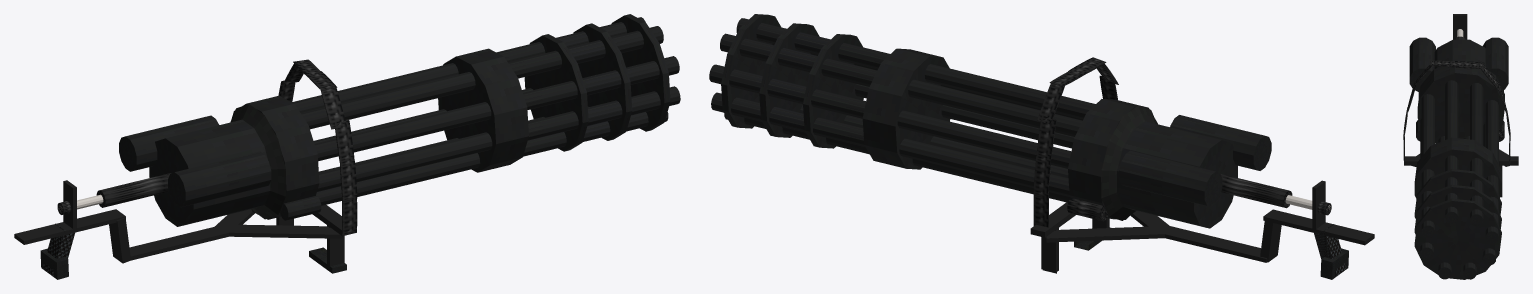
The model's file is Minigun.fbx.
3 renders of one model, left to right at view 1: azimuth 30°, elevation 25°; view 2: azimuth 150°, elevation 25°; view 3: azimuth 270°, elevation 25°, orthographic. The views are drawn at different scales.
Visible parts, largest first — view 1: cylinder_38, cylinder_5, cylinder_44, cylinder_45, cylinder_37, cylinder_48, cylinder_6, cylinder_36, cylinder_46, cylinder_41, cylinder_40, cylinder_39 (+20 smaller); view 2: cylinder_5, cylinder_38, cylinder_43, cylinder_46, cylinder_42, cylinder_37, cylinder_48, cylinder_7, cylinder_41, cylinder_40, cylinder_39, cylinder_6 (+19 smaller); view 3: cylinder_39, cylinder_48, cylinder_38, cylinder_46, cylinder_37, cylinder_44, cylinder_43, cylinder_41, cylinder_40, cylinder_6, cylinder_5, cylinder_7 (+14 smaller).
Part boxes in pixels (x1,y1,x2,y2): cylinder_38: (438,48,528,172); cylinder_5: (149,119,270,226); cylinder_44: (314,56,679,161); cylinder_45: (317,86,680,191); cylinder_37: (301,26,663,129); cylinder_48: (232,95,319,219); cylinder_6: (168,151,271,207); cylinder_36: (316,112,668,205); cylinder_46: (292,17,645,112); cylinder_41: (524,34,588,151); cylinder_40: (573,23,632,140); cylinder_39: (611,14,670,131); cylinder_5: (1117,121,1237,228); cylinder_38: (862,48,950,169); cylinder_43: (709,64,1071,168); cylinder_46: (720,33,1082,136); cylinder_42: (711,92,1070,197); cylinder_37: (736,18,1095,119); cylinder_48: (1068,99,1157,219); cylinder_7: (1119,150,1222,206); cylinder_41: (803,34,863,148); cylinder_40: (759,23,819,137); cylinder_39: (721,14,780,128); cylinder_6: (1170,115,1271,170); cylinder_39: (1414,198,1501,279); cylinder_48: (1417,66,1504,143); cylinder_38: (1414,137,1501,198); cylinder_46: (1470,83,1483,226); cylinder_37: (1445,80,1458,223); cylinder_44: (1421,94,1434,237); cylinder_43: (1485,100,1498,243); cylinder_41: (1414,169,1501,218); cylinder_40: (1414,184,1501,233); cylinder_6: (1409,37,1435,91); cylinder_5: (1434,39,1485,68); cylinder_7: (1483,37,1508,89).
Bounding box in the file's own units: 1.78 × 0.4809 × 0.3771.
6 materials, 5 textured.
